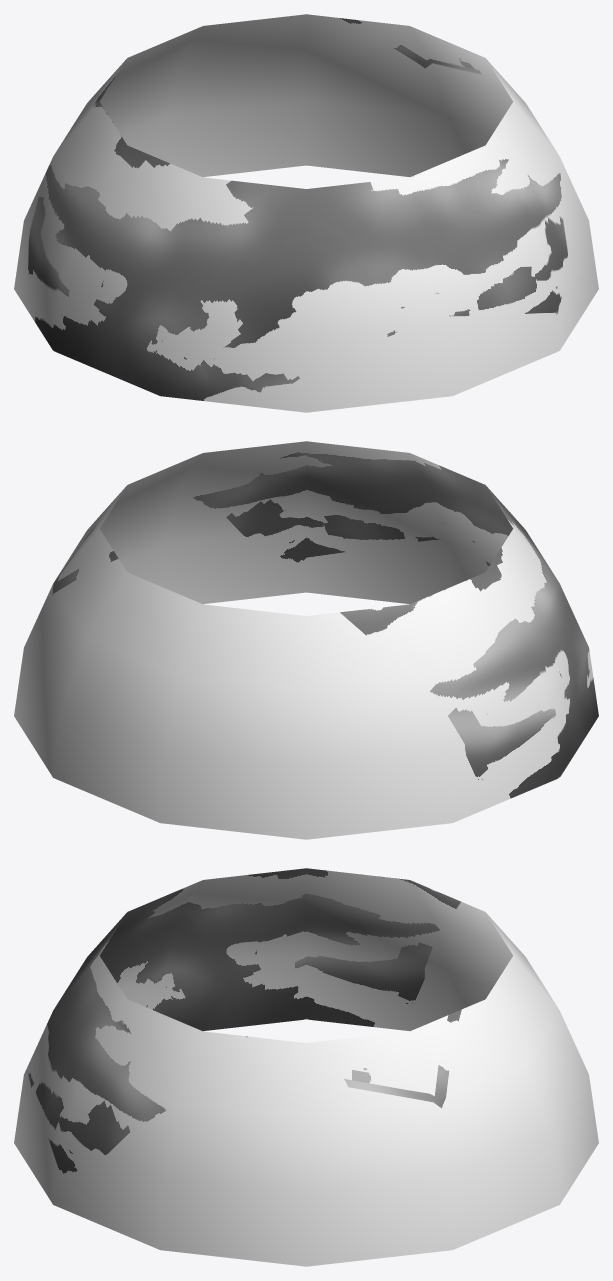
The model's file is Cloud1-1.fbx.
3 renders of one model, top to bottom at view 1: azimuth 30°, elevation 25°; view 2: azimuth 150°, elevation 25°; view 3: azimuth 270°, elevation 25°, orthographic.
Visible parts, largest first — view 1: Thunder2; view 2: Thunder2; view 3: Thunder2.
Boxes of the visible parts, x1,y1,x2,y2 form: Thunder2: [14, 14, 598, 412]; Thunder2: [14, 441, 598, 839]; Thunder2: [14, 868, 598, 1266].
Size of the model in its own units: 16.31 by 5.77 by 16.31.
Materials: 1 (1 with a texture image).
